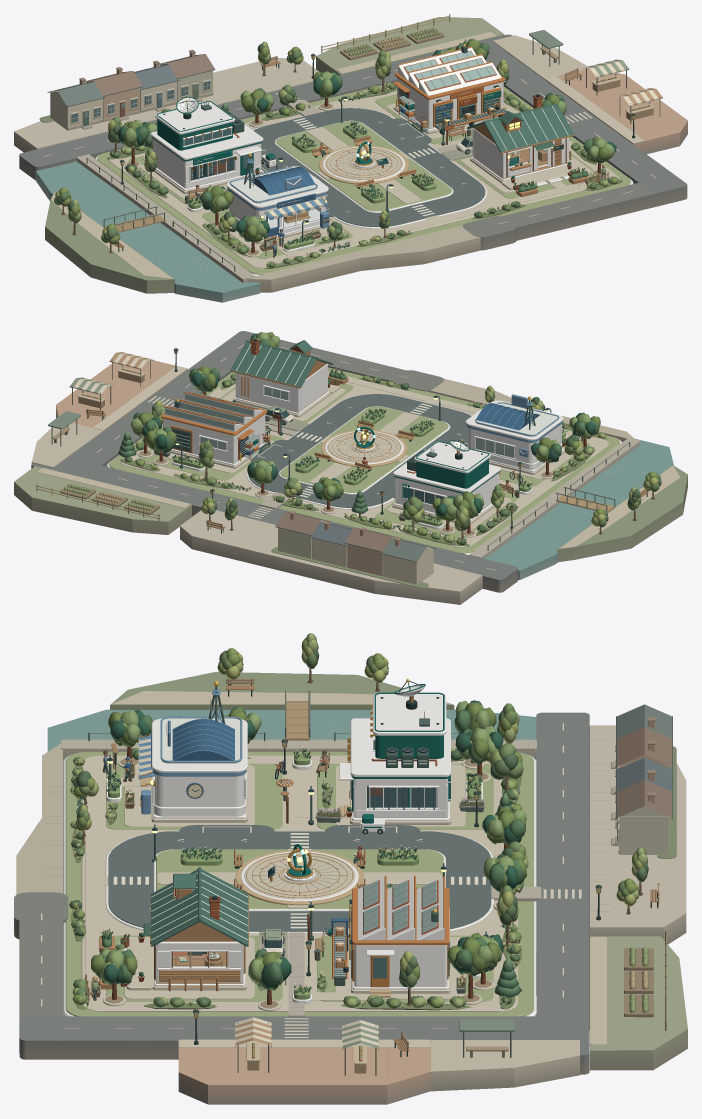
The model's file is Town.glb.
The picture shows the model from 3 angles, top to bottom: view 1: azimuth 30°, elevation 25°; view 2: azimuth 150°, elevation 25°; view 3: azimuth 270°, elevation 25°; orthographic projection. The views are drawn at different scales.
Parts seen in each view (by area): view 1: ENV.Root.Geometry, GardenBatch.DistrictQuayEN, GardenBatch.DistrictStreetsEN, GardenBatch.DistrictMarketEN, GardenBatch.DistrictTerraceWN, FO.Root.Geometry, NX.Root.Geometry, NC.Root.Geometry, GardenBatch.DistrictAllotmentEN, GardenBatch.DistrictResidentialEN, ST.Move.Roof.Geometry, ST.Root.Geometry (+12 smaller); view 2: ENV.Root.Geometry, GardenBatch.DistrictQuayEN, GardenBatch.DistrictStreetsEN, GardenBatch.DistrictResidentialEN, GardenBatch.DistrictAllotmentEN, GardenBatch.DistrictMarketEN, GardenBatch.DistrictTerraceWN, FO.Root.Geometry, NX.Root.Geometry, NC.Root.Geometry, ST.Move.Roof.Geometry, ST.Root.Geometry (+12 smaller); view 3: ENV.Root.Geometry, GardenBatch.DistrictStreetsEN, GardenBatch.DistrictMarketEN, GardenBatch.DistrictQuayEN, NX.Root.Geometry, GardenBatch.DistrictAllotmentEN, GardenBatch.DistrictResidentialEN, NC.Root.Geometry, FO.Root.Geometry, GardenBatch.DistrictTerraceWN, ST.Move.Roof.Geometry, GardenBatch.CanopyWN (+12 smaller).
Part boxes in pixels (x1,y1,x2,y2): ENV.Root.Geometry: (95, 38, 633, 276); GardenBatch.DistrictQuayEN: (35, 154, 516, 302); GardenBatch.DistrictStreetsEN: (19, 34, 687, 240); GardenBatch.DistrictMarketEN: (492, 30, 687, 154); GardenBatch.DistrictTerraceWN: (47, 49, 215, 130); FO.Root.Geometry: (392, 44, 506, 134); NX.Root.Geometry: (150, 100, 264, 193); NC.Root.Geometry: (226, 153, 330, 243); GardenBatch.DistrictAllotmentEN: (316, 14, 504, 75); GardenBatch.DistrictResidentialEN: (14, 58, 319, 152); ST.Move.Roof.Geometry: (467, 94, 574, 153); ST.Root.Geometry: (470, 128, 567, 183); ENV.Root.Geometry: (106, 332, 621, 554); GardenBatch.DistrictQuayEN: (392, 370, 687, 580); GardenBatch.DistrictStreetsEN: (31, 331, 517, 592); GardenBatch.DistrictResidentialEN: (180, 510, 482, 604); GardenBatch.DistrictAllotmentEN: (14, 466, 191, 534); GardenBatch.DistrictMarketEN: (31, 360, 187, 467); GardenBatch.DistrictTerraceWN: (275, 511, 435, 584); FO.Root.Geometry: (161, 391, 270, 468); NX.Root.Geometry: (392, 441, 500, 524); NC.Root.Geometry: (465, 394, 565, 474); ST.Move.Roof.Geometry: (230, 339, 333, 388); ST.Root.Geometry: (233, 364, 330, 417); ENV.Root.Geometry: (63, 700, 536, 1016); GardenBatch.DistrictStreetsEN: (19, 712, 589, 1074); GardenBatch.DistrictMarketEN: (178, 1019, 579, 1104); GardenBatch.DistrictQuayEN: (14, 672, 536, 938); NX.Root.Geometry: (339, 692, 451, 824); GardenBatch.DistrictAllotmentEN: (590, 931, 687, 1070); GardenBatch.DistrictResidentialEN: (590, 725, 686, 944); NC.Root.Geometry: (138, 681, 247, 822); FO.Root.Geometry: (347, 875, 450, 997); GardenBatch.DistrictTerraceWN: (611, 704, 672, 854); ST.Move.Roof.Geometry: (150, 867, 248, 946); GardenBatch.CanopyWN: (301, 633, 528, 868).
Bounding box in the file's own units: 55.75 × 7.96 × 38.38.
50 materials, 2 textured.
